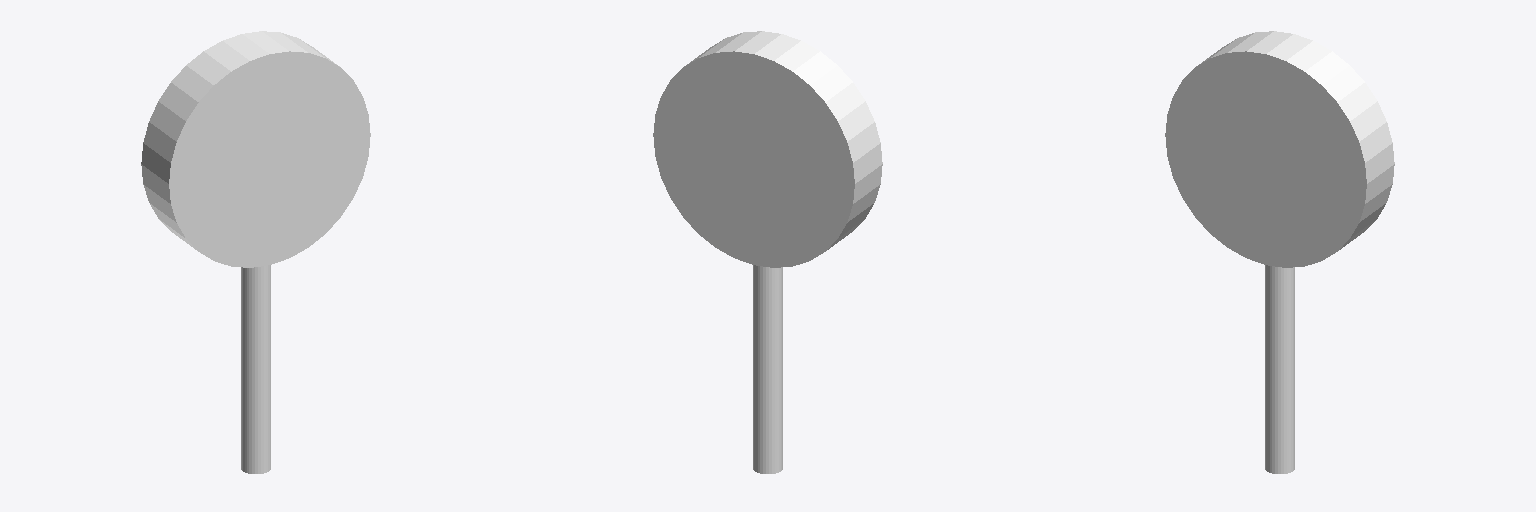
3 views of the same model, side by side, from view 1: azimuth 30°, elevation 25°; view 2: azimuth 150°, elevation 25°; view 3: azimuth 330°, elevation 25° (orthographic).
Parts seen in each view (by area): view 1: obj0, obj1; view 2: obj0, obj1; view 3: obj0, obj1.
Part boxes in pixels (x1,y1,x2,y2): obj0: (141,31,370,267); obj1: (241,265,270,473); obj0: (653,31,882,267); obj1: (753,265,782,473); obj0: (1165,31,1394,267); obj1: (1265,265,1294,473).
Size of the model in its own units: 25.4 by 51.02 by 6.05.
2 materials, 2 textured.